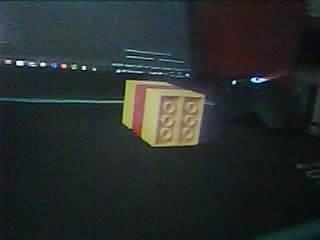lego: (122, 79, 205, 147)
